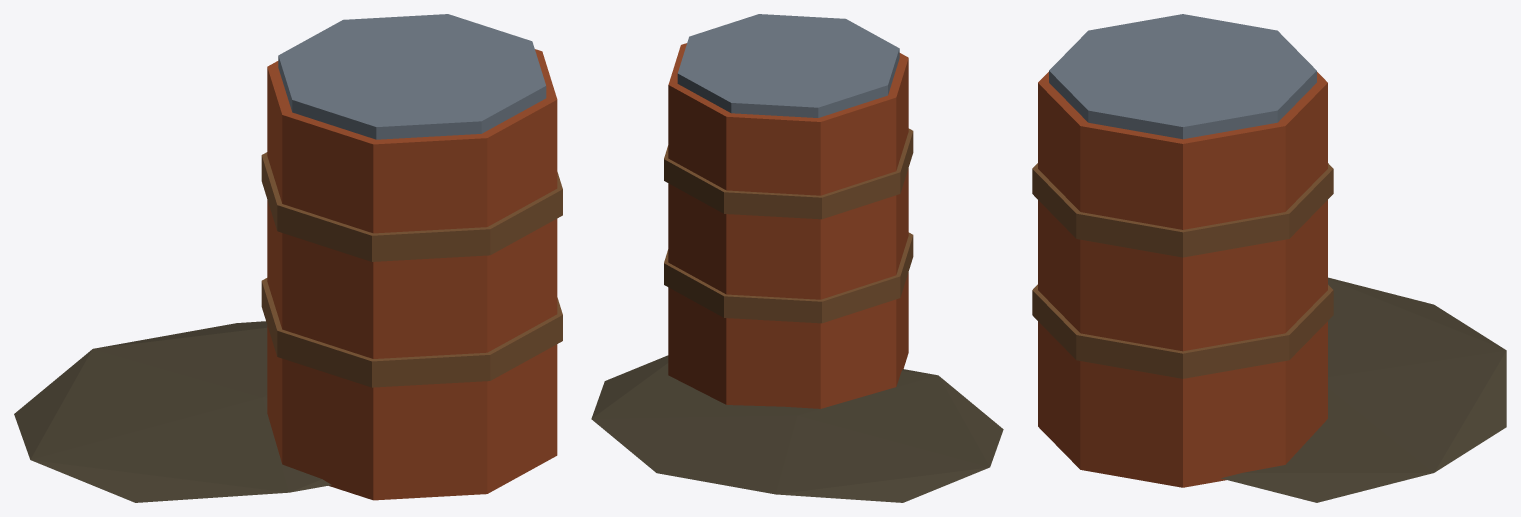
File: tambor_enferrujado.glb
The picture shows the model from 3 angles, left to right: view 1: azimuth 30°, elevation 25°; view 2: azimuth 150°, elevation 25°; view 3: azimuth 270°, elevation 25°; orthographic projection. The views are drawn at different scales.
Parts seen in each view (by area): view 1: corpo; view 2: corpo; view 3: corpo.
Boxes of the visible parts, left/top/right/bottom form: corpo: left=14, top=14, right=562, bottom=502; corpo: left=591, top=14, right=1003, bottom=502; corpo: left=1032, top=14, right=1506, bottom=502.
Size of the model in its own units: 0.4651 by 0.362 by 0.4251.
